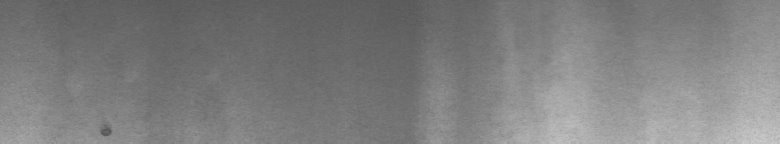fi: (96, 116, 116, 136)
